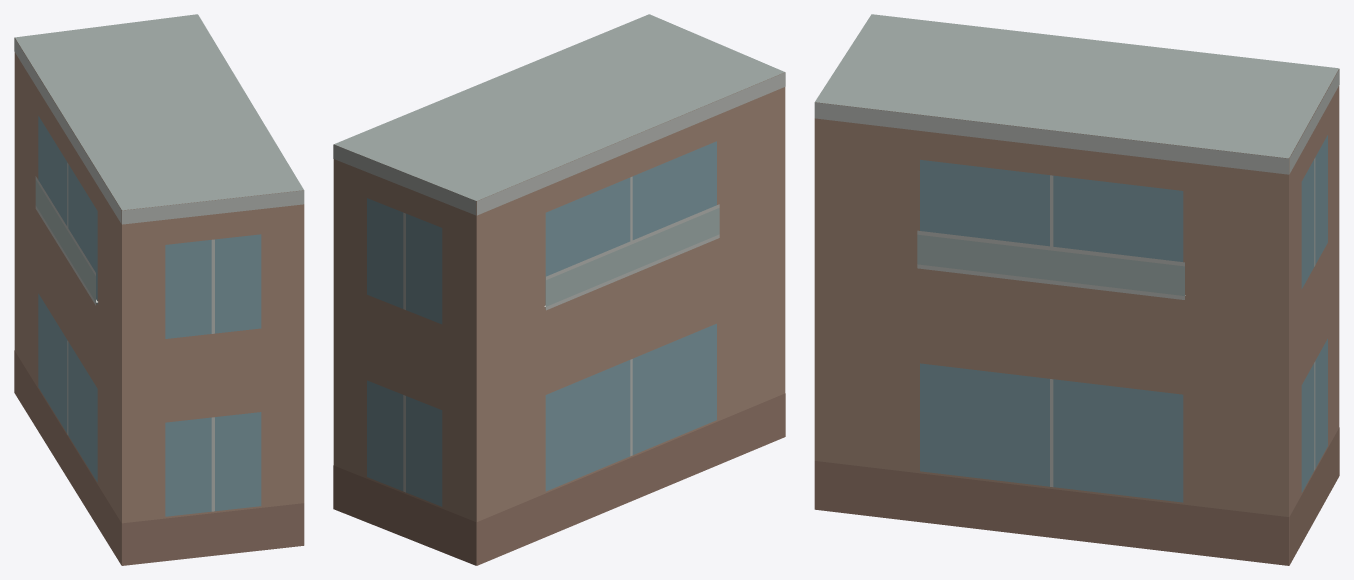
The model's file is survey-upis-32465706.glb.
3 renders of one model, left to right at view 1: azimuth 30°, elevation 25°; view 2: azimuth 150°, elevation 25°; view 3: azimuth 270°, elevation 25°, orthographic. The views are drawn at different scales.
Visible parts, largest first — view 1: survey-upis-32465706.tmp; view 2: survey-upis-32465706.tmp; view 3: survey-upis-32465706.tmp.
Part boxes in pixels (box(x1,y1,x2,y2)): survey-upis-32465706.tmp: box(14, 14, 304, 565); survey-upis-32465706.tmp: box(333, 14, 785, 565); survey-upis-32465706.tmp: box(814, 14, 1339, 565).
Size of the model in its own units: 4.65 by 6.1 by 7.13.
